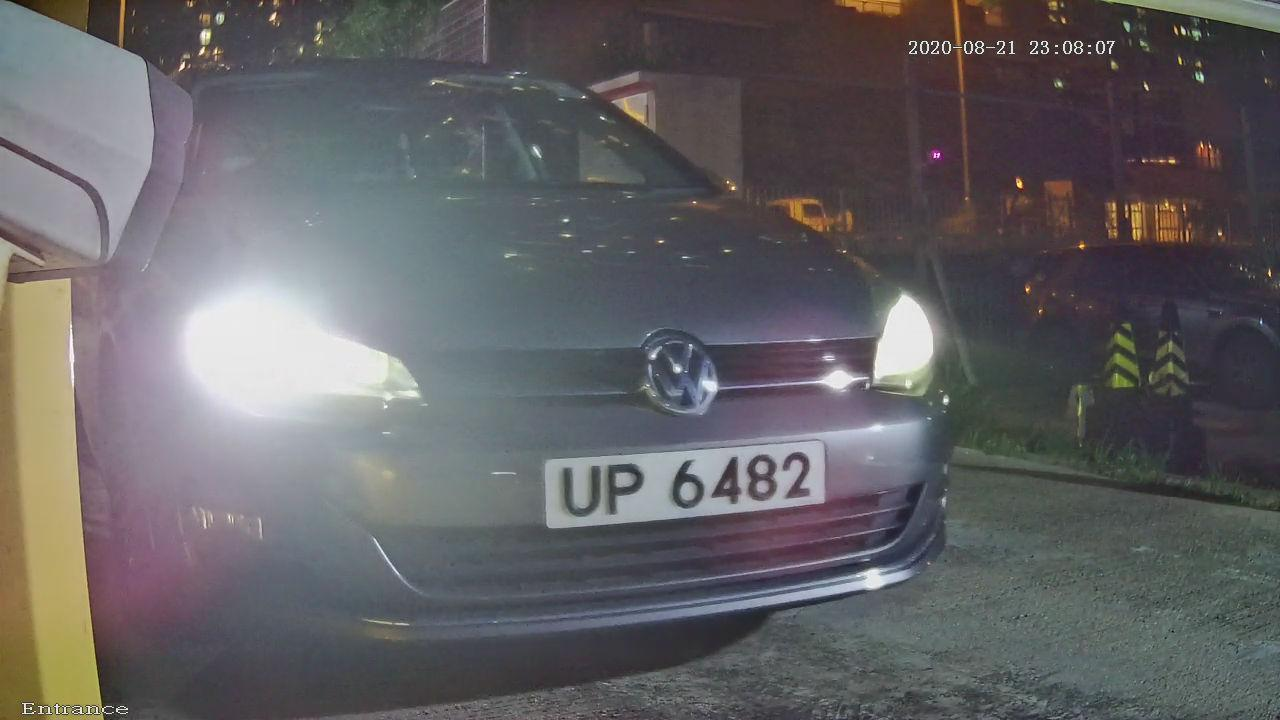Car: (1, 10, 1029, 698)
License Plate: (521, 434, 846, 531)
